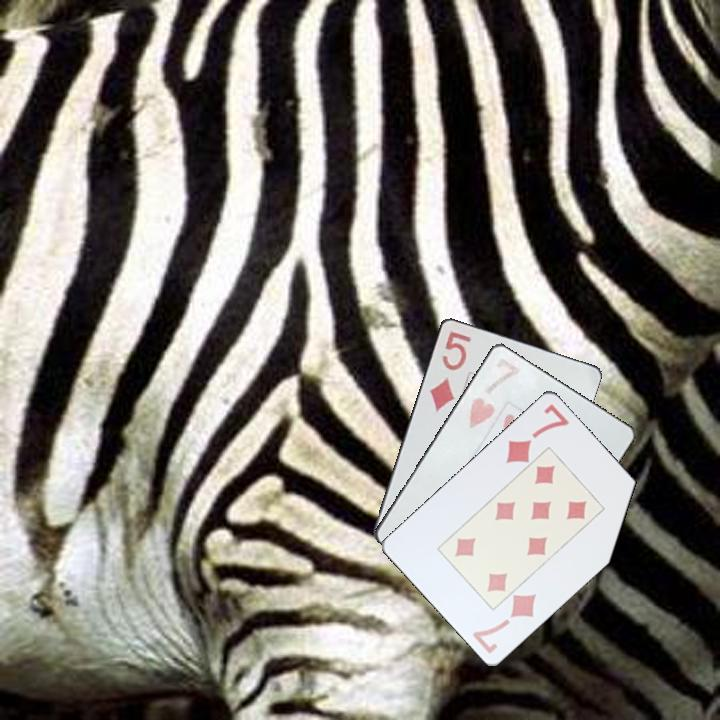5d: (426, 327, 474, 414)
7d: (469, 589, 540, 657), (502, 399, 573, 466)
7h: (465, 354, 524, 431)
